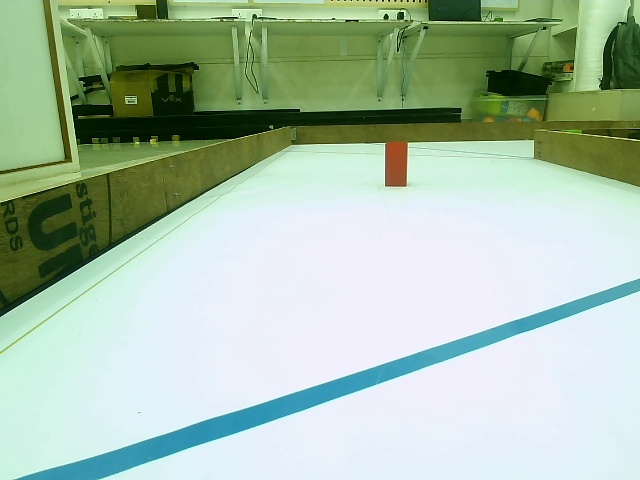red: (386, 142, 405, 187)
